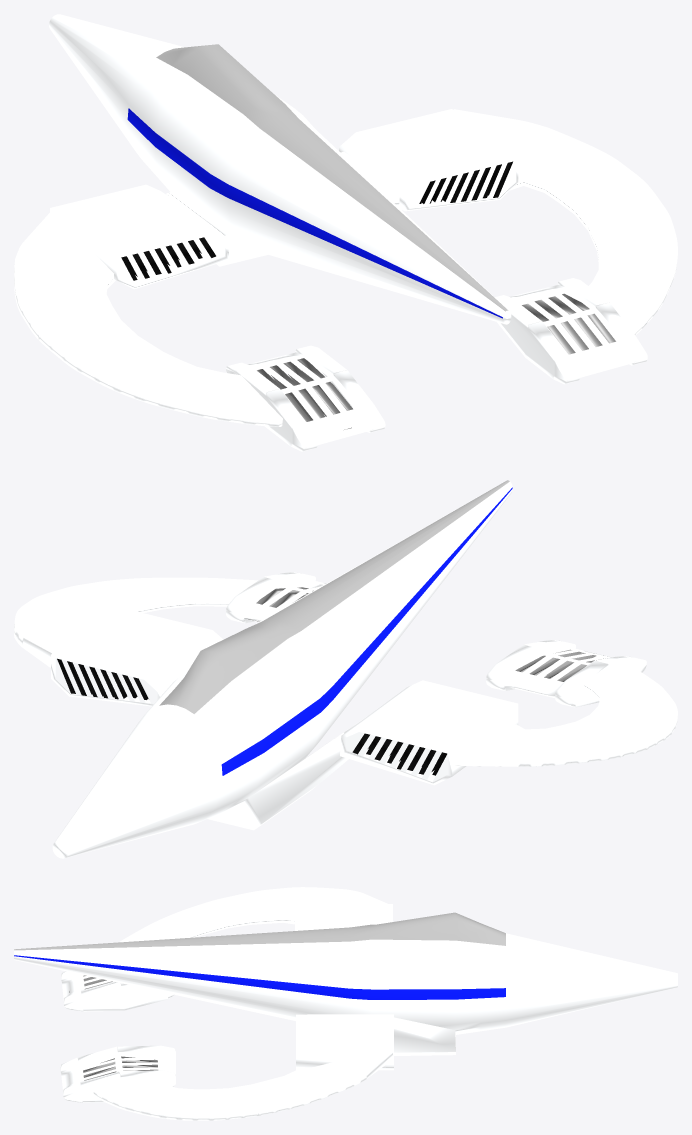
Rendered from nsea_protector_hull_base_10.gltf.
3 views of the same model, one above another, from view 1: azimuth 30°, elevation 25°; view 2: azimuth 150°, elevation 25°; view 3: azimuth 270°, elevation 25° (orthographic). The views are drawn at different scales.
Parts seen in each view (by area): view 1: hull, left wing, right wing, right front engine, left front engine, right engine cube, left engine cube; view 2: hull, left wing, left front engine, right front engine, right wing, left engine cube, right engine cube; view 3: hull, right wing, left wing, right front engine, right engine cube, left engine cube, left front engine.
Part boxes in pixels (box(x1,y1,x2,y2)): hull: box(49, 14, 511, 324); left wing: box(14, 210, 282, 426); right wing: box(453, 109, 677, 335); right front engine: box(339, 109, 518, 211); left front engine: box(50, 184, 229, 289); right engine cube: box(495, 278, 647, 384); left engine cube: box(226, 345, 385, 451); hull: box(52, 480, 512, 858); left wing: box(453, 665, 677, 766); left front engine: box(340, 680, 518, 785); right front engine: box(51, 607, 223, 706); right wing: box(14, 577, 281, 667); left engine cube: box(486, 639, 646, 707); right engine cube: box(226, 572, 326, 623); hull: box(14, 912, 677, 1055); right wing: box(93, 1048, 393, 1120); left wing: box(119, 887, 387, 942); right front engine: box(296, 1014, 393, 1070); right engine cube: box(60, 1045, 175, 1102); left engine cube: box(61, 971, 174, 1011); left front engine: box(295, 904, 392, 930).
Bounding box in the file's own units: 3.95 × 1.08 × 5.05.
